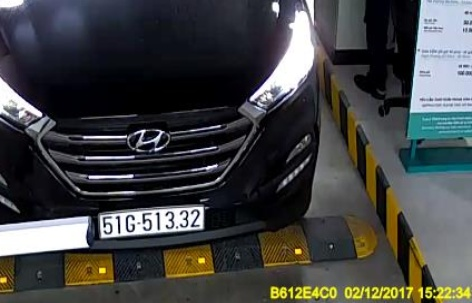plate: (94, 207, 209, 239)
